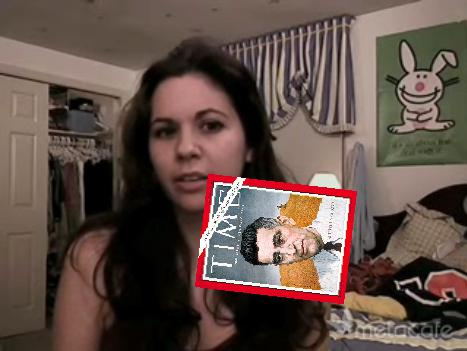times: (190, 173, 361, 306)
